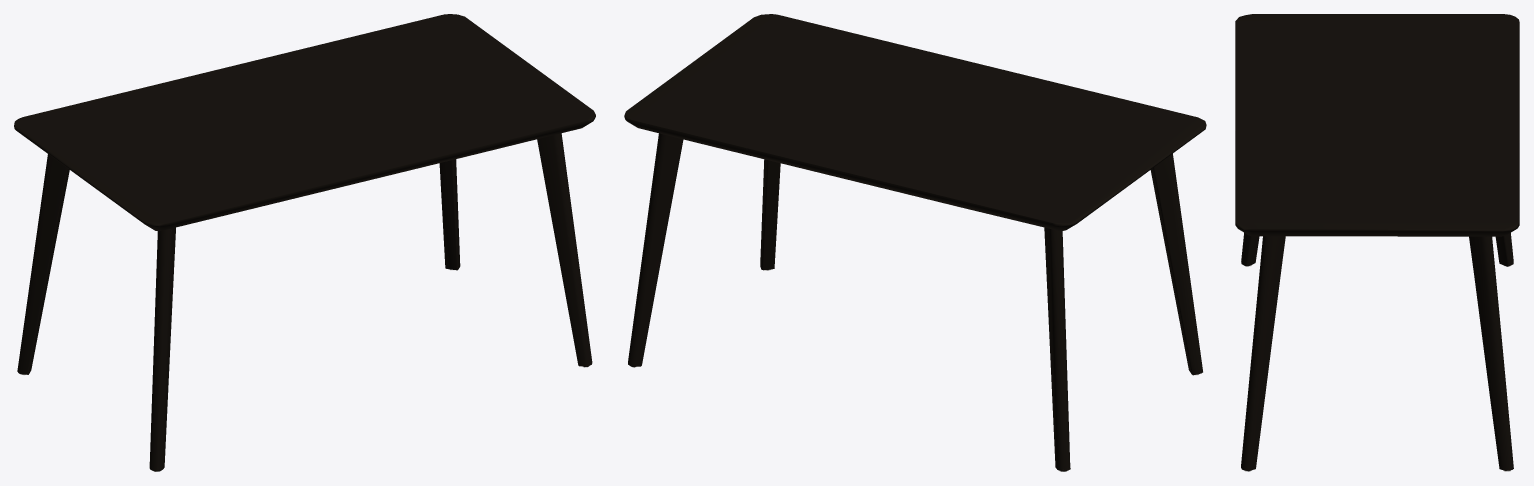
The model's file is LISABO_70294339.glb.
The picture shows the model from 3 angles, left to right: view 1: azimuth 30°, elevation 25°; view 2: azimuth 150°, elevation 25°; view 3: azimuth 270°, elevation 25°; orthographic projection. The views are drawn at different scales.
Visible parts, largest first — view 1: ProcessedMeshNode; view 2: ProcessedMeshNode; view 3: ProcessedMeshNode.
Boxes of the visible parts, x1,y1,x2,y2 form: ProcessedMeshNode: (14,14,595,471); ProcessedMeshNode: (624,14,1206,471); ProcessedMeshNode: (1235,14,1519,471).
Bounding box in the file's own units: 1.4 × 0.7455 × 0.7802.
Materials: 1 (1 with a texture image).
